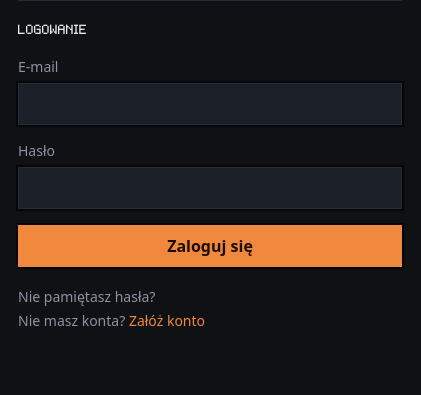
Test case: LoginPage › pokazuje blad zlego hasla
The image size is (421, 395).
Step 1. Type "ania@example.com" into the field labelled "E-mail" → x=210, y=104, box top-left (18, 83), bottom-right (402, 125)
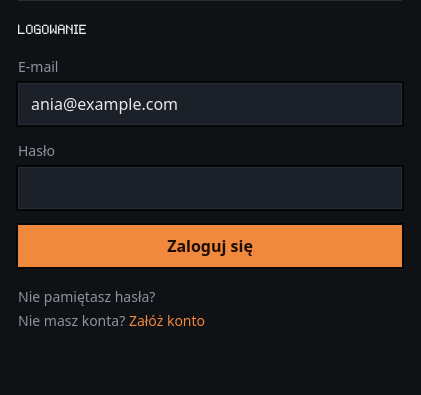
Step 2. Type "zle-haslo-123" into the password field labelled "Hasło" → x=210, y=188, box top-left (18, 167), bottom-right (402, 209)
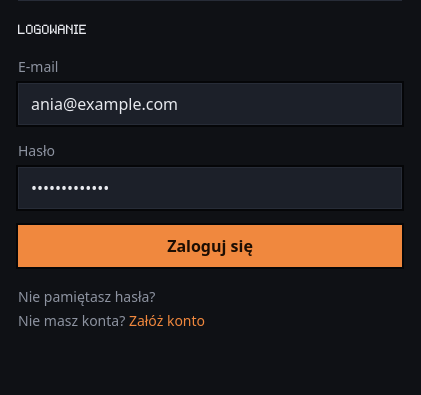
Step 3. Click the button "Zaloguj się" → x=210, y=246, box top-left (18, 225), bottom-right (402, 267)
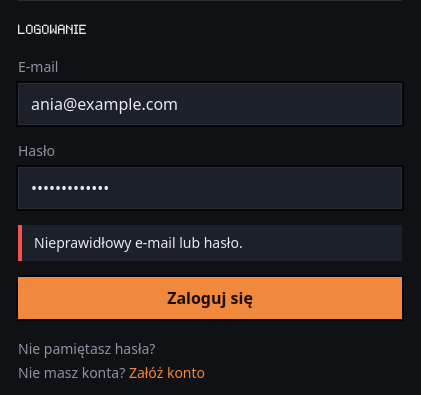
Now the text "Nieprawidłowy e-mail lub hasło." is shown, box top-left (18, 225), bottom-right (402, 261)
